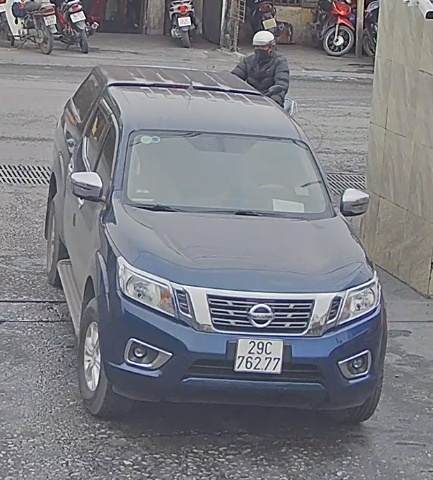vehicle plate: (233, 330, 289, 379)
